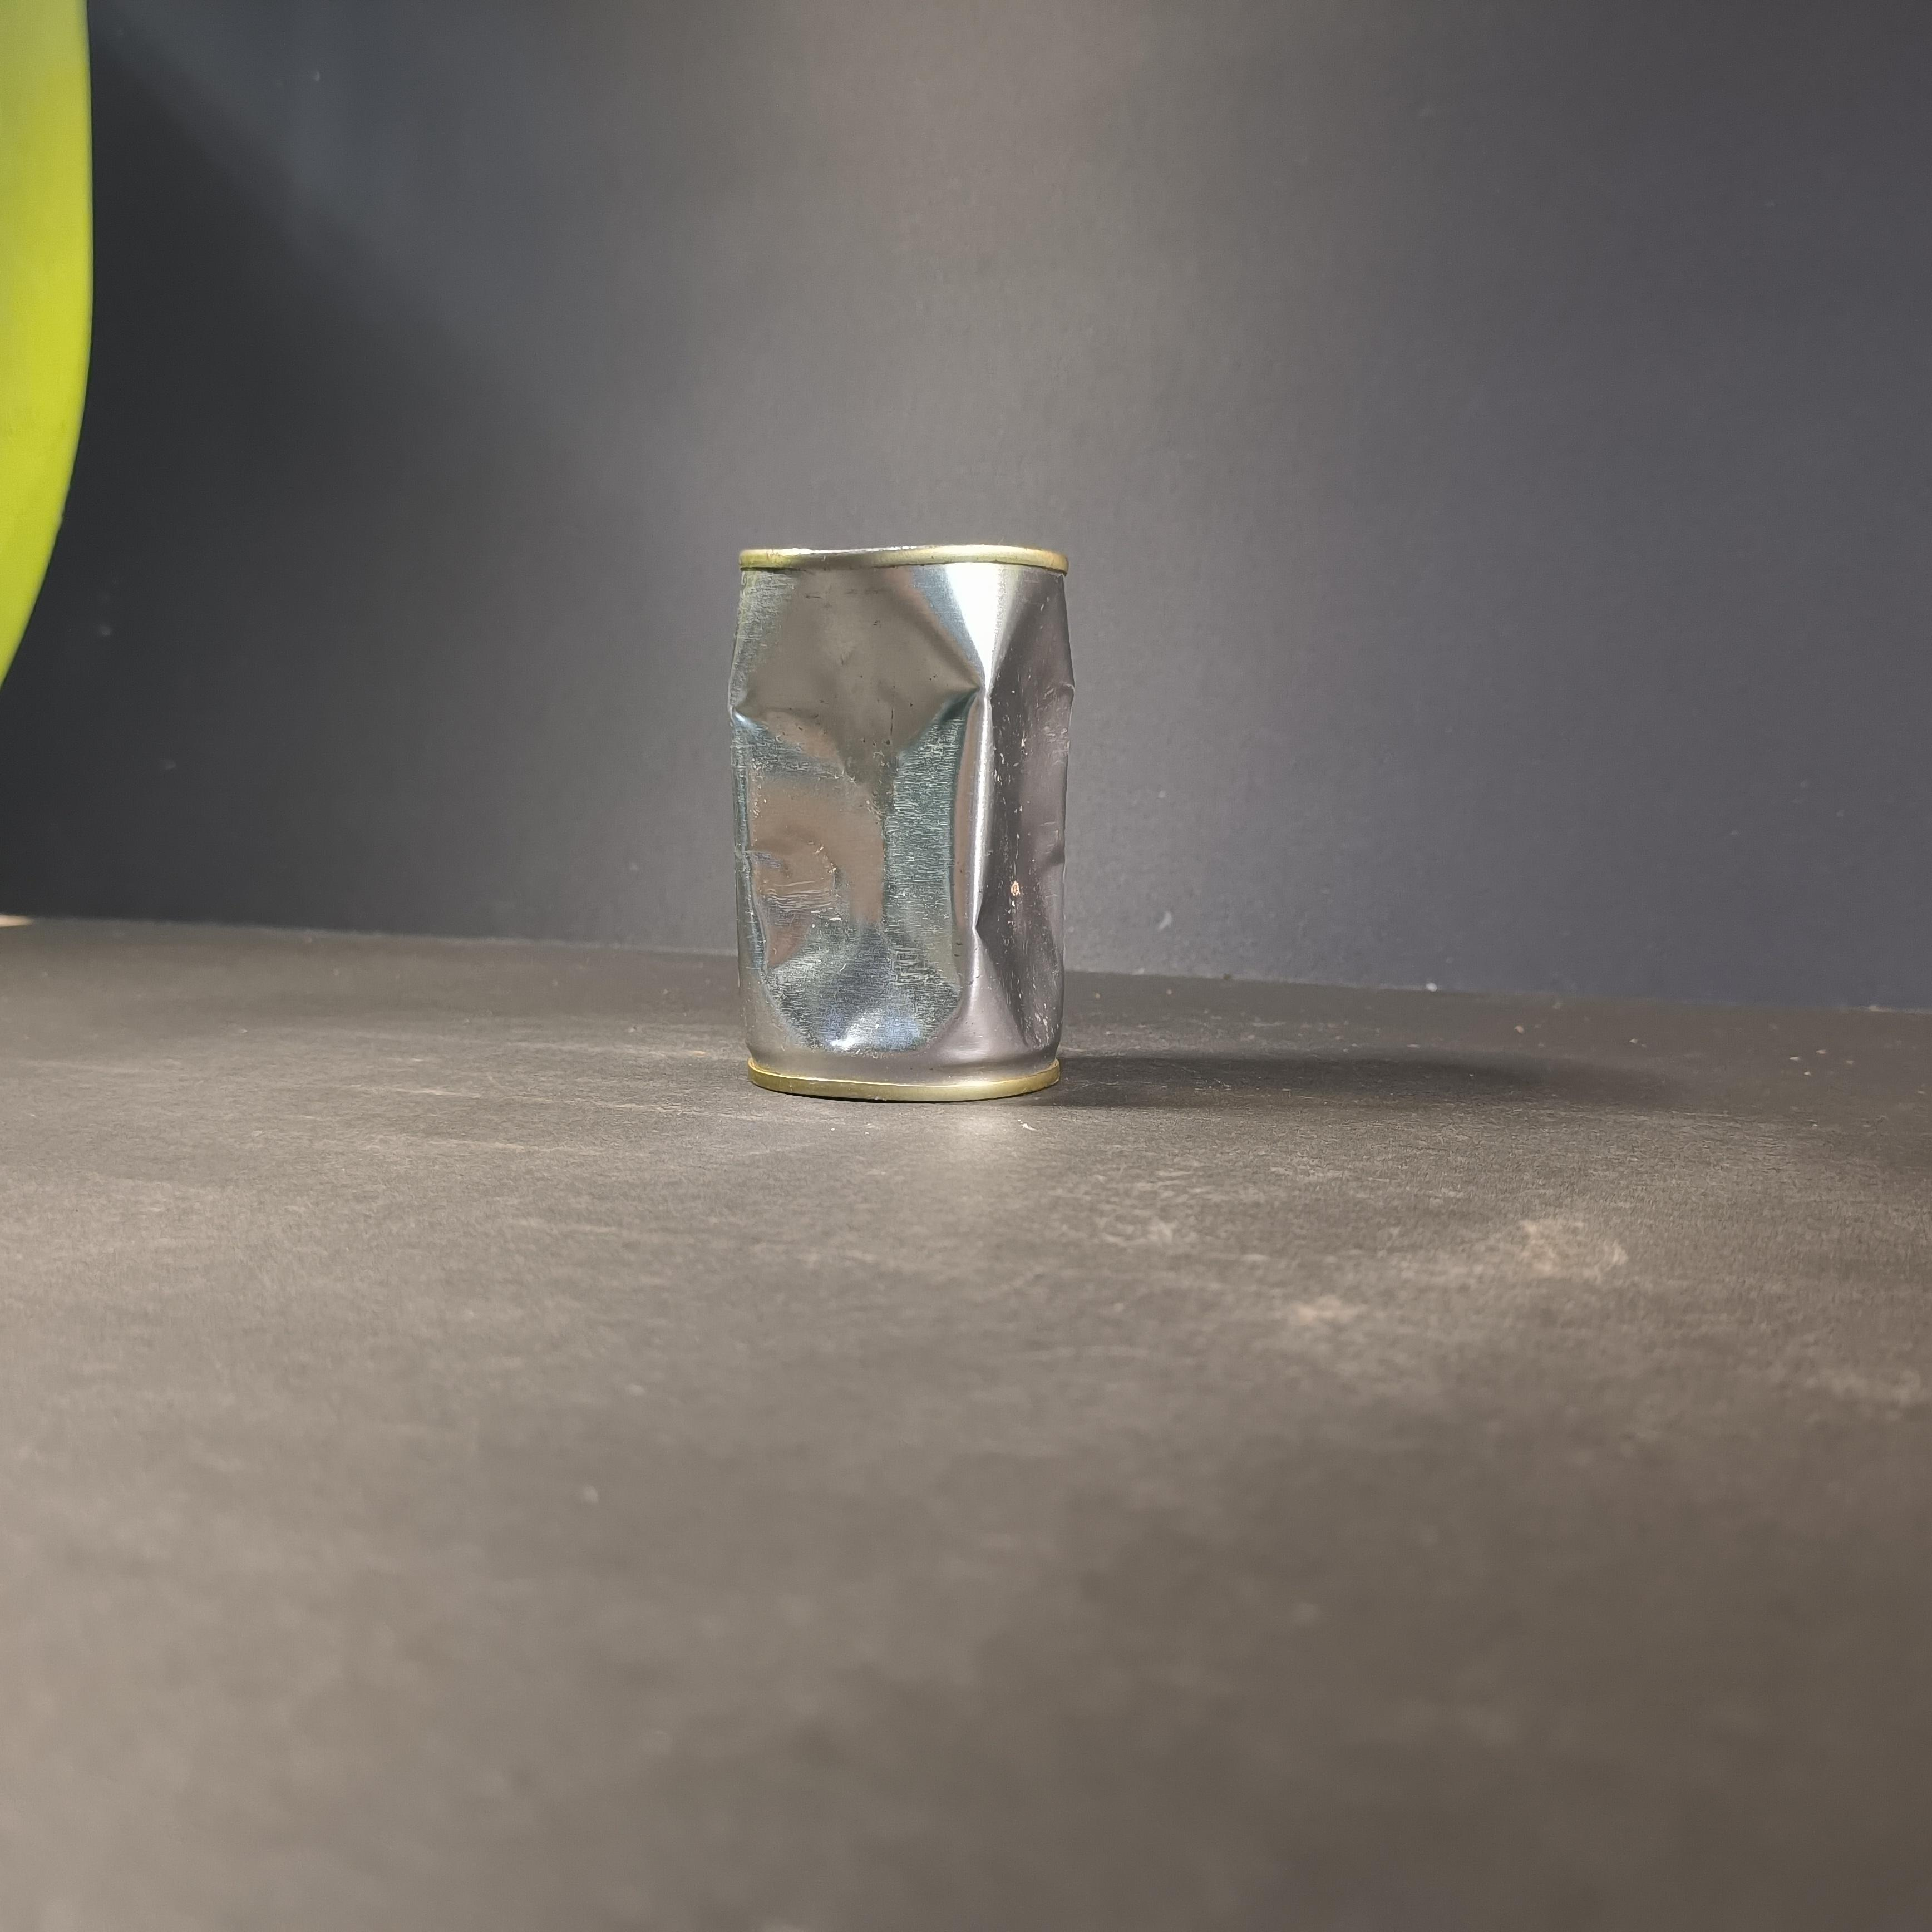Dented: (713, 504, 1085, 1129)
